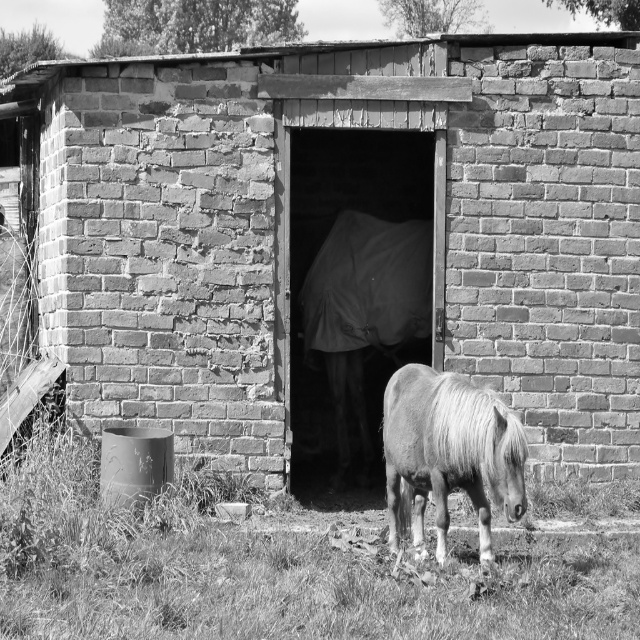Horse: (382, 365, 530, 571)
